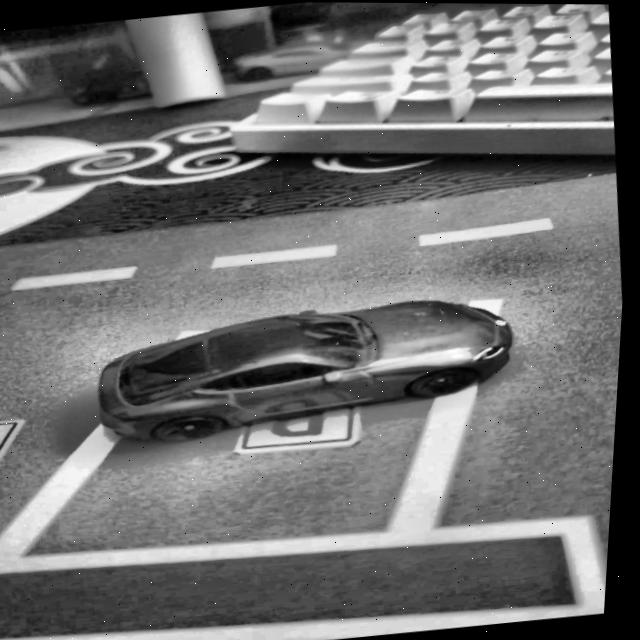car: (91, 286, 526, 452)
